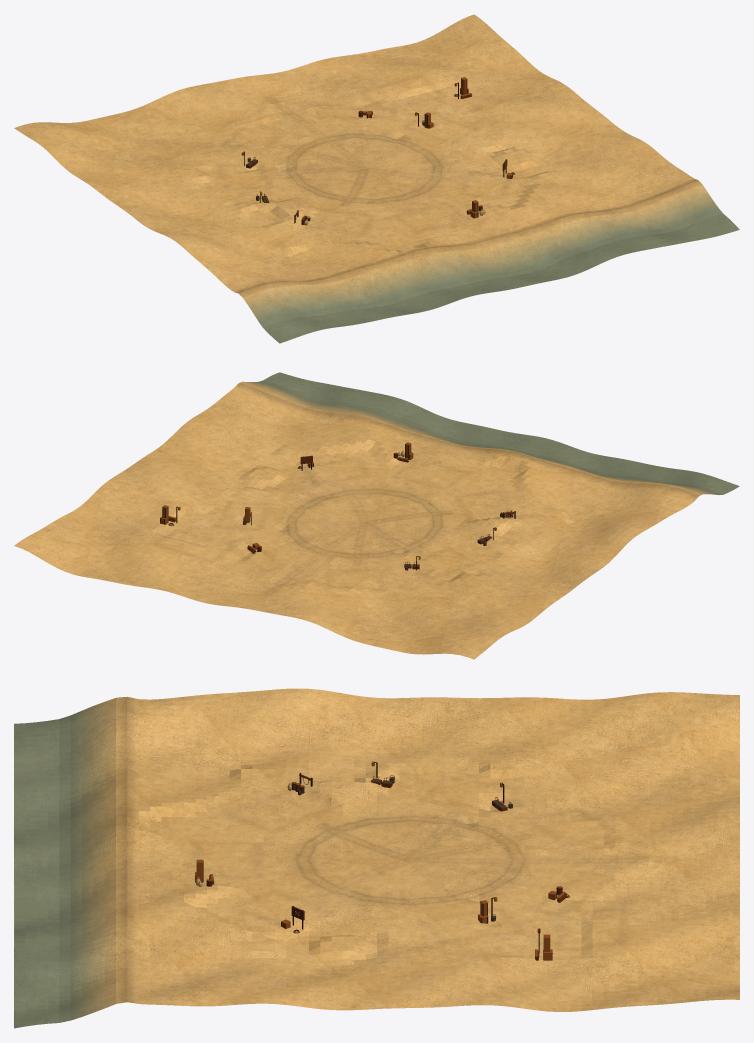
The model's file is town-plate.glb.
3 renders of one model, top to bottom at view 1: azimuth 30°, elevation 25°; view 2: azimuth 150°, elevation 25°; view 3: azimuth 270°, elevation 25°, orthographic. The views are drawn at different scales.
Visible parts, largest first — view 1: TownPlate; view 2: TownPlate; view 3: TownPlate.
Part boxes in pixels (<box>): TownPlate: <box>14,14,739,343</box>; TownPlate: <box>14,372,739,659</box>; TownPlate: <box>14,688,739,1028</box>.
Size of the model in its own units: 44 by 3.33 by 44.
Materials: 1 (1 with a texture image).
